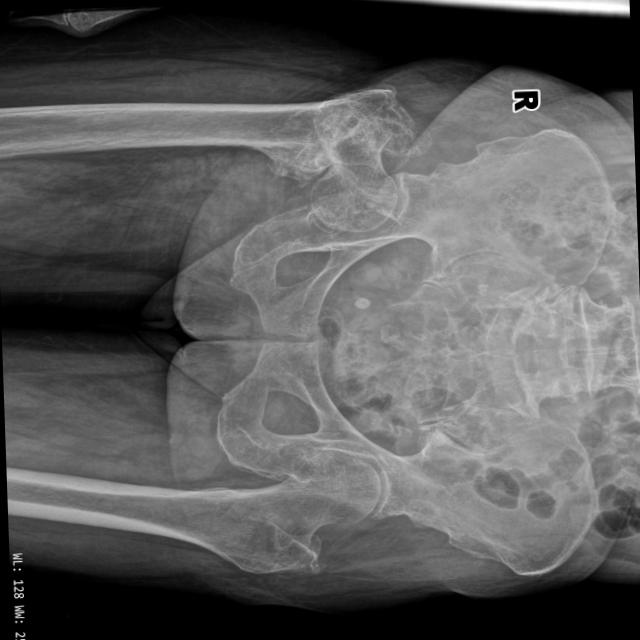normal-left: (130, 451, 379, 579)
right-intertrochanteric: (202, 82, 433, 188), (309, 141, 396, 232)
